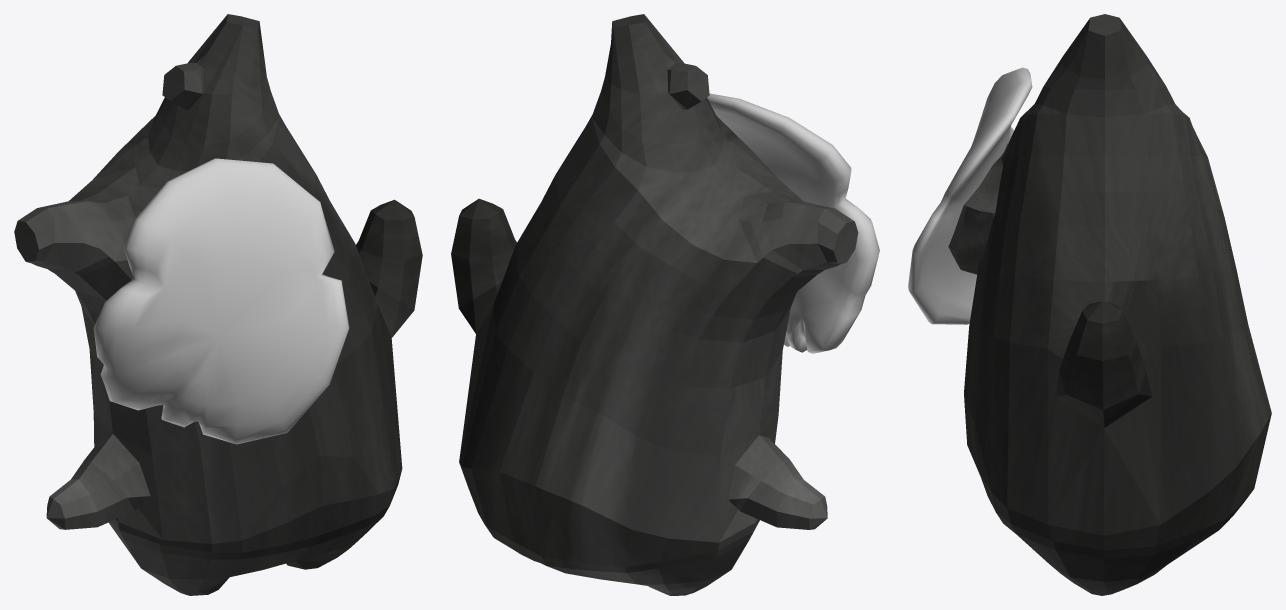
File: frame_0018.obj
3 renders of one model, left to right at view 1: azimuth 30°, elevation 25°; view 2: azimuth 150°, elevation 25°; view 3: azimuth 270°, elevation 25°, orthographic. The views are drawn at different scales.
Visible parts, largest first — view 1: korok, leaf; view 2: korok, leaf; view 3: korok, leaf, nose.
Part boxes in pixels (x1,y1,x2,y2): korok: (14,14,422,595); leaf: (93,158,349,444); korok: (451,14,858,595); leaf: (707,93,879,353); korok: (964,14,1271,595); leaf: (908,67,1032,324); nose: (948,143,1007,274).
Bounding box in the file's own units: 1.65 × 2.27 × 1.38.
